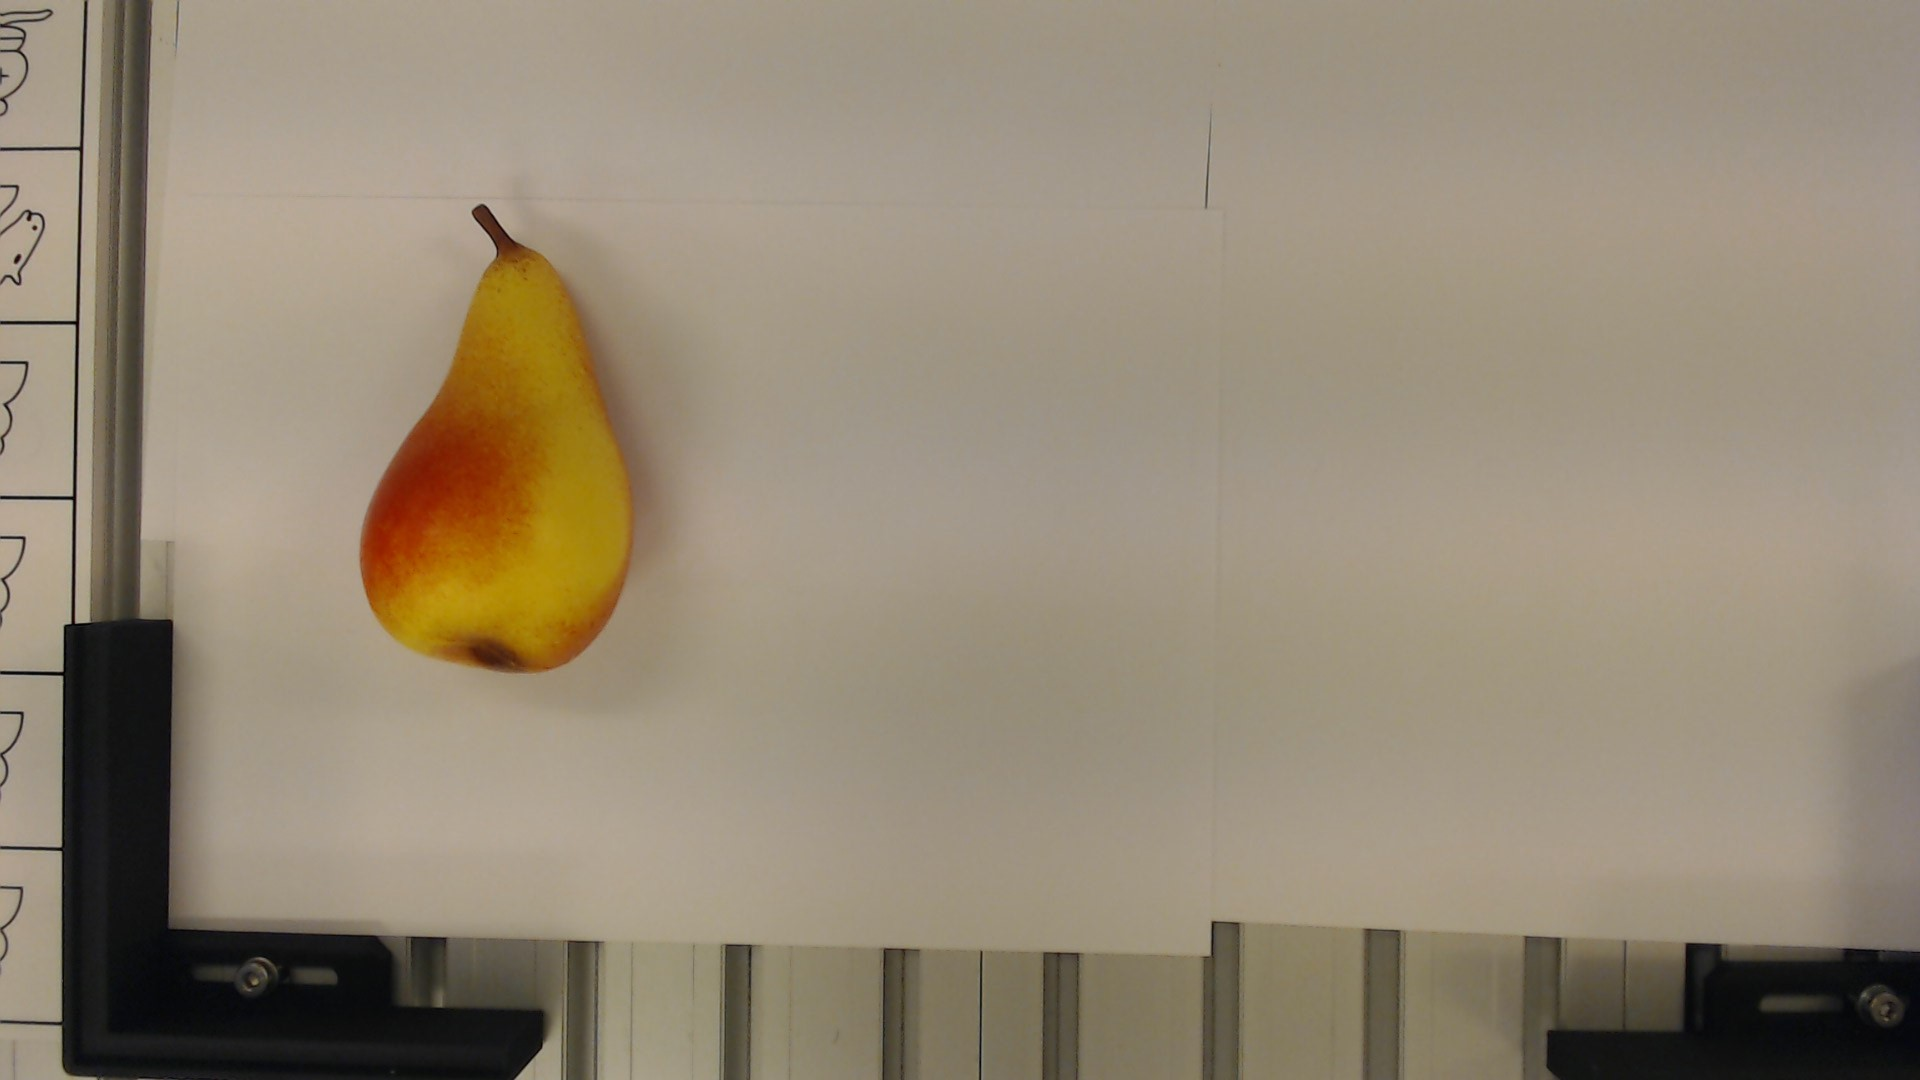Pear: (360, 200, 644, 665)
